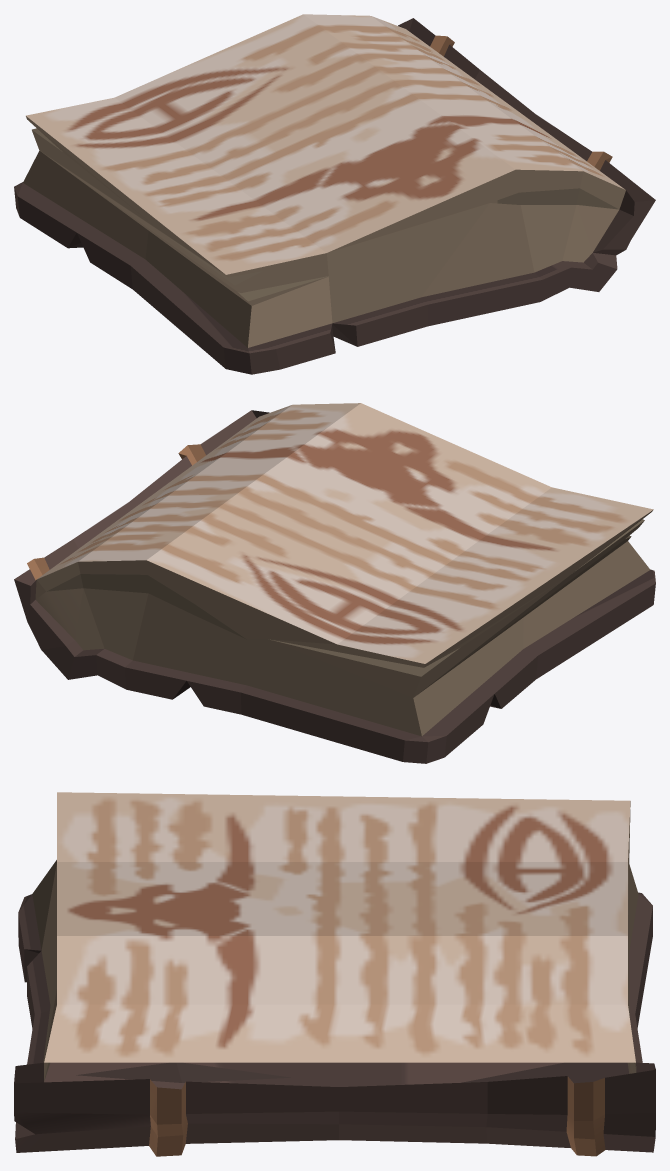
Rendered from InventoryBookBottom.fbx.
3 views of the same model, one above another, from view 1: azimuth 30°, elevation 25°; view 2: azimuth 150°, elevation 25°; view 3: azimuth 270°, elevation 25° (orthographic). The views are drawn at different scales.
Parts seen in each view (by area): view 1: SM_Prop_Book_Bottom; view 2: SM_Prop_Book_Bottom; view 3: SM_Prop_Book_Bottom.
Boxes of the visible parts, <box> form: SM_Prop_Book_Bottom: <box>14,14,655,374</box>; SM_Prop_Book_Bottom: <box>14,403,655,763</box>; SM_Prop_Book_Bottom: <box>14,792,655,1156</box>.
Size of the model in its own units: 29.25 by 8.45 by 28.38.
